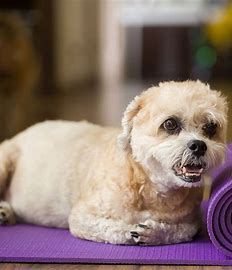dog: (4, 72, 229, 251)
